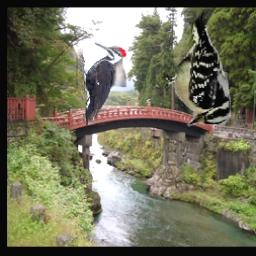Woodpecker: (155, 9, 232, 127), (76, 43, 126, 126)
